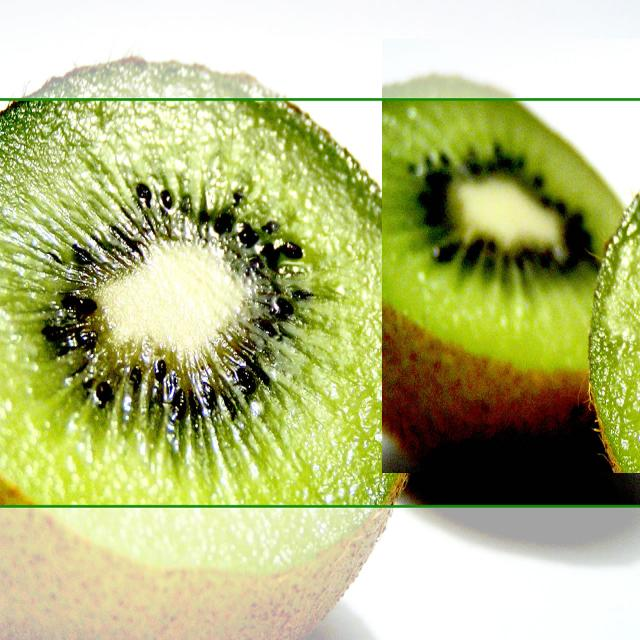Qiwi: (0, 71, 405, 545), (382, 39, 640, 473)
